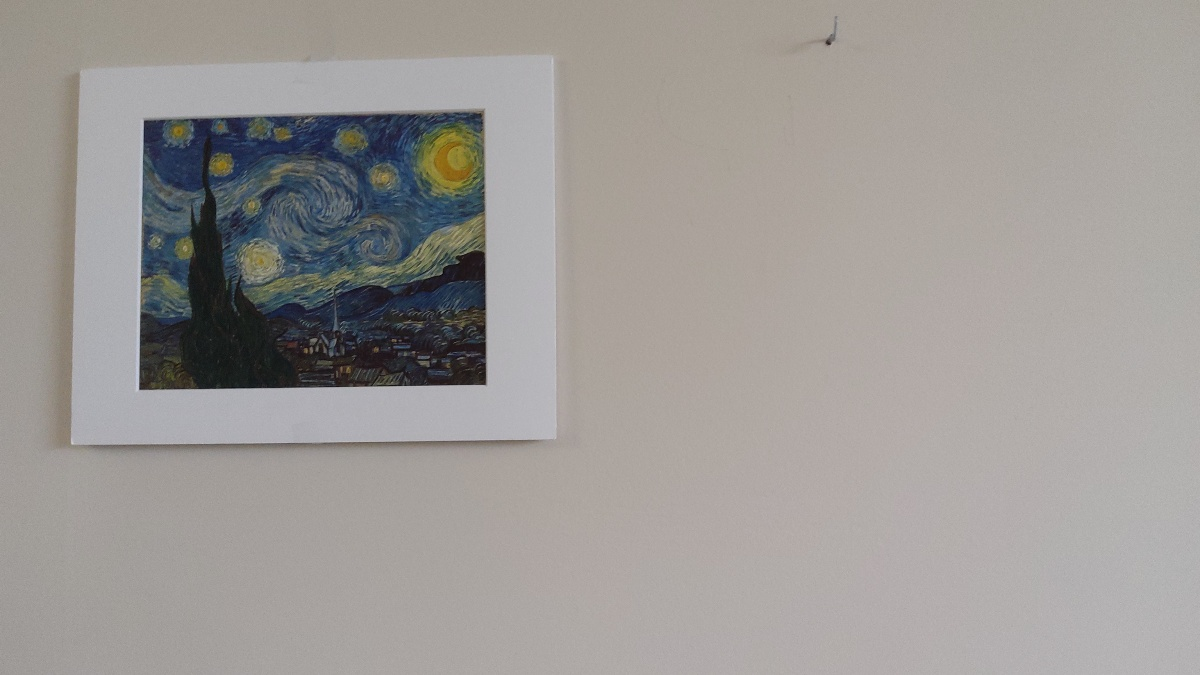painting: (125, 106, 496, 393)
